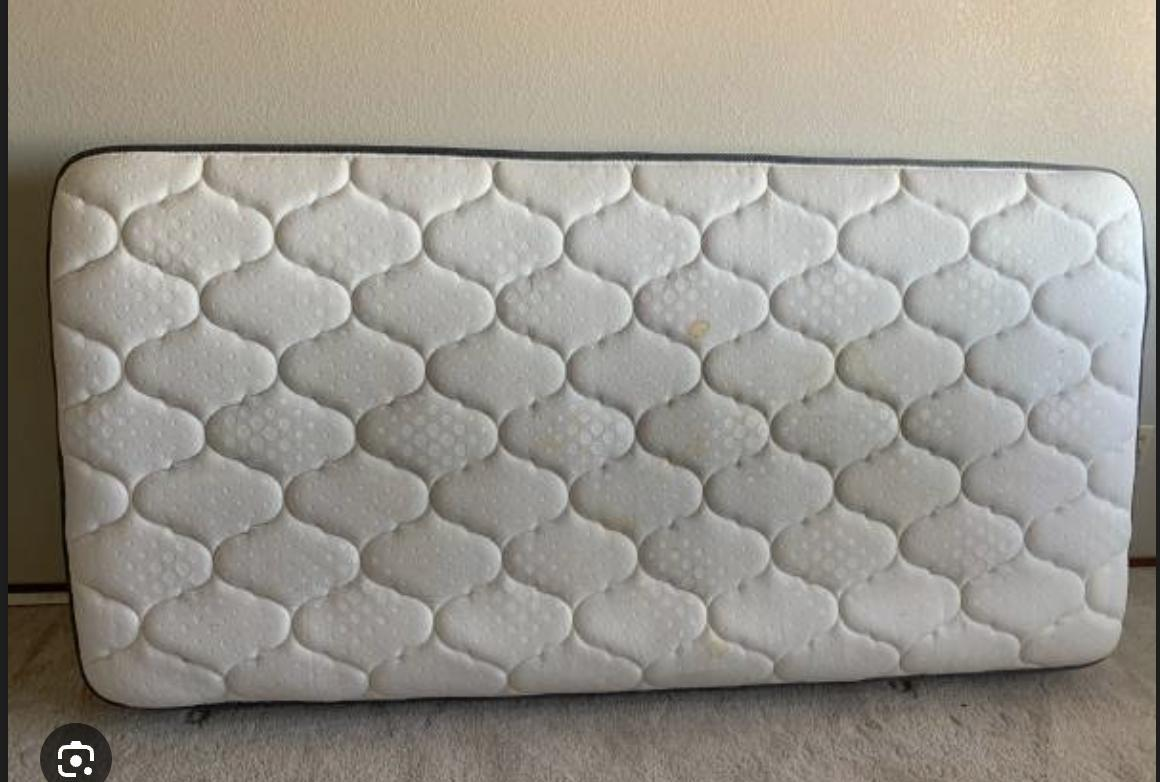Bed-Mattress: (46, 140, 1150, 716)
